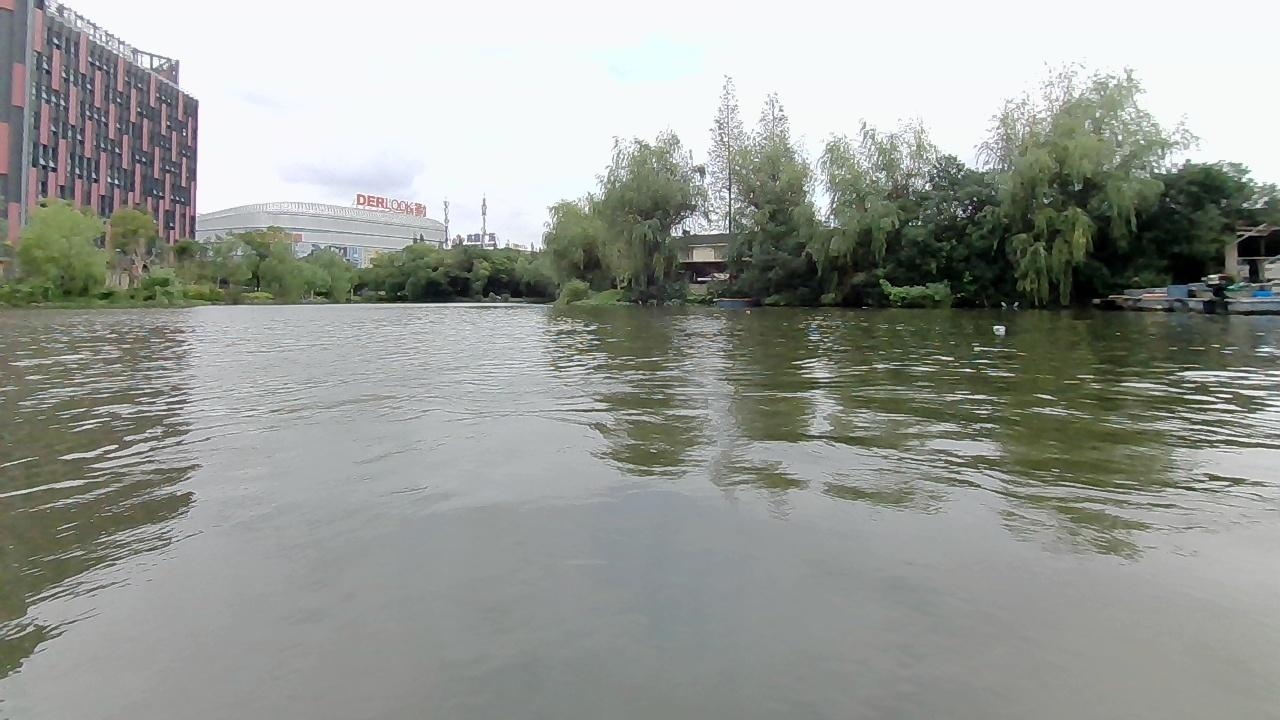bottle: (989, 322, 1007, 336)
